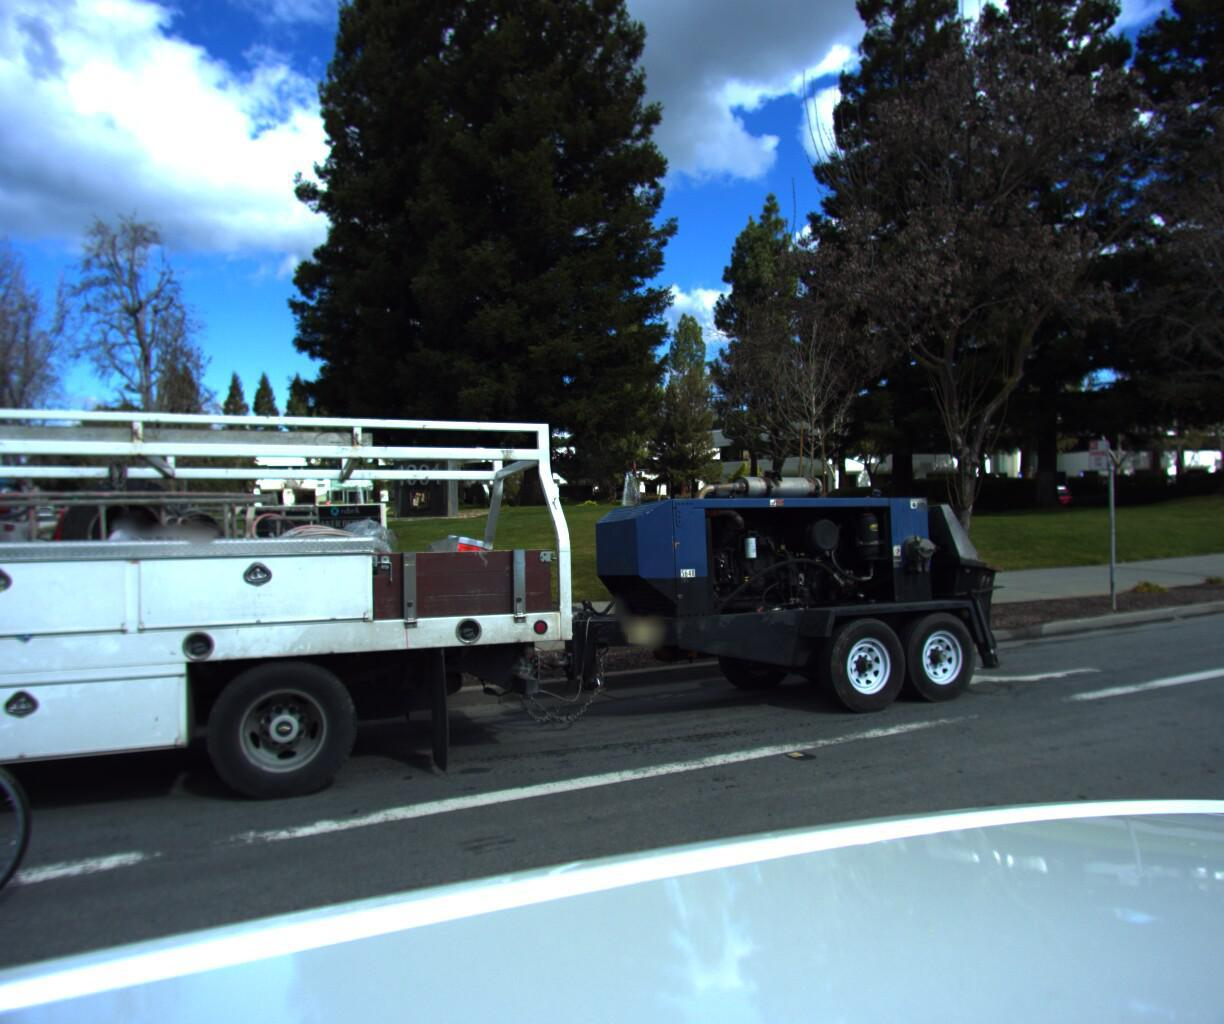bicycle: (0, 445, 66, 1024)
truck: (0, 336, 1155, 1024)
